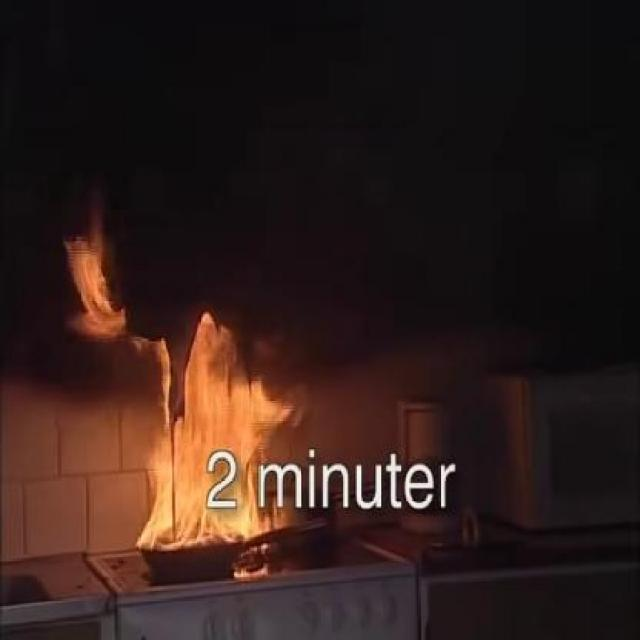fire: (68, 200, 282, 545)
